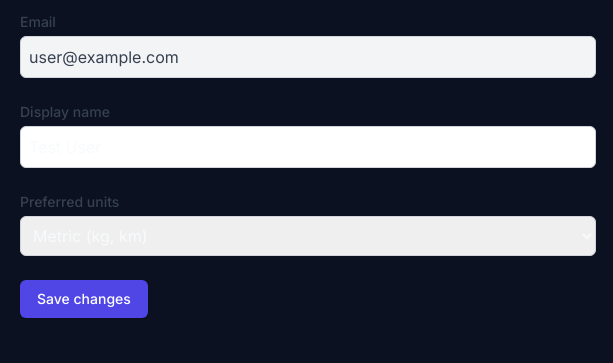
Test: ProfileForm › shows an error message when the display name is empty
Clear the field labelled "Display name" at x=308, y=147, box [20, 126, 596, 168]
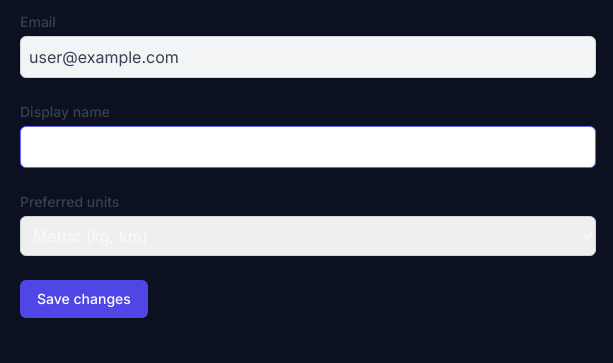
Click the button "Save changes" at x=84, y=299, box [20, 280, 148, 318]
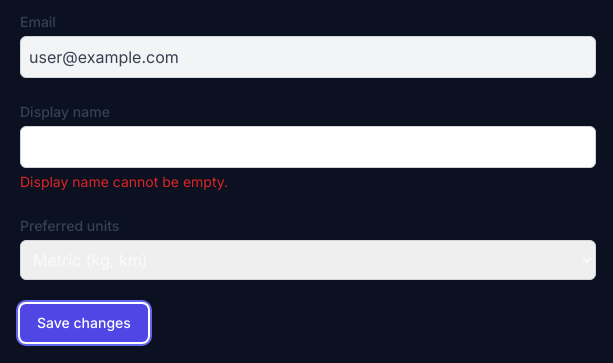
Expected: the text "Display name cannot be empty." is shown, [20, 173, 228, 190]
